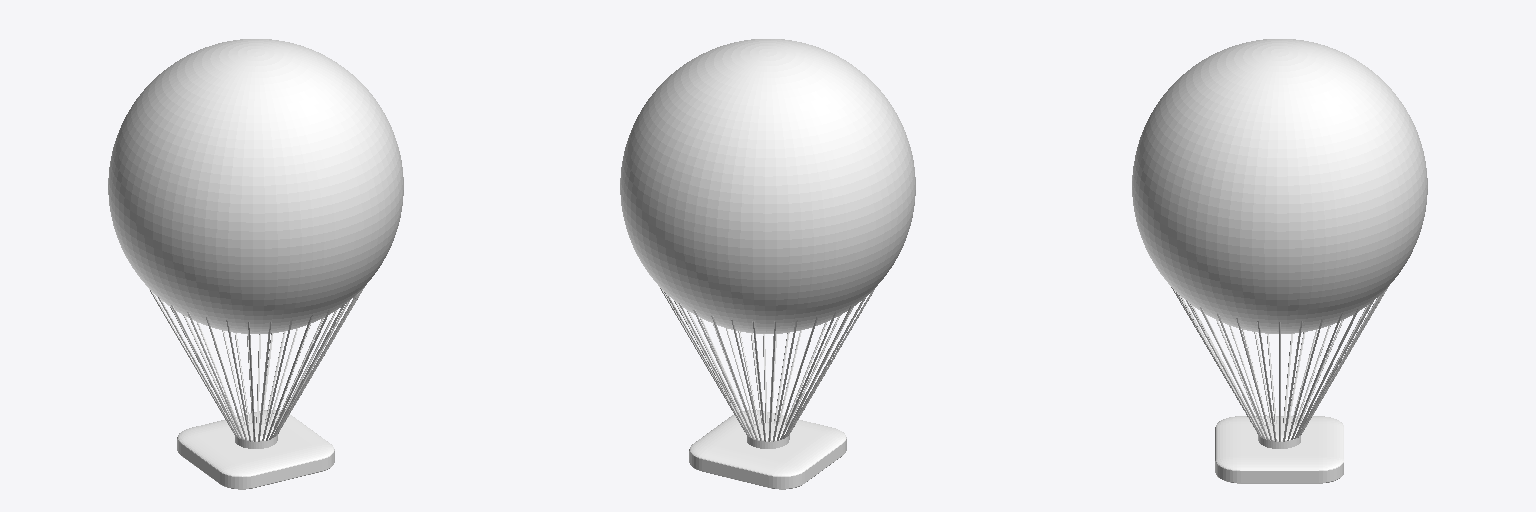
The model's file is balloon.obj.
3 renders of one model, left to right at view 1: azimuth 30°, elevation 25°; view 2: azimuth 150°, elevation 25°; view 3: azimuth 270°, elevation 25°, orthographic.
Parts seen in each view (by area): view 1: Sphere, Cube, Circle, Cylinder.004; view 2: Sphere, Cube, Circle, Cylinder.004; view 3: Sphere, Cube, Circle, Cylinder.004.
Part boxes in pixels (left/top/right/bottom): Sphere: left=108, top=39, right=403, bottom=333; Cube: left=177, top=410, right=334, bottom=489; Circle: left=149, top=287, right=364, bottom=441; Cylinder.004: left=235, top=423, right=277, bottom=448; Sphere: left=620, top=39, right=915, bottom=333; Cube: left=689, top=410, right=846, bottom=489; Circle: left=660, top=288, right=874, bottom=441; Cylinder.004: left=747, top=422, right=789, bottom=448; Sphere: left=1132, top=39, right=1427, bottom=333; Cube: left=1215, top=416, right=1343, bottom=483; Circle: left=1171, top=285, right=1389, bottom=441; Cylinder.004: left=1258, top=423, right=1300, bottom=448.
Bounding box in the file's own units: 13.75 × 20.89 × 13.74.